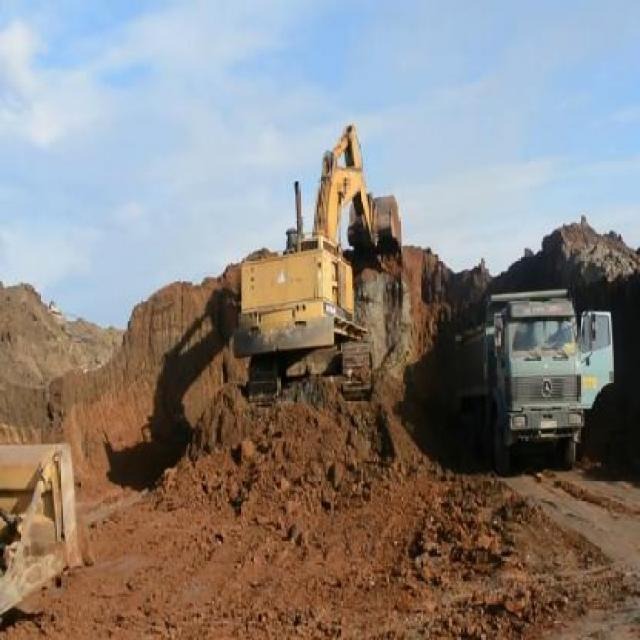Dump Truck: (452, 287, 606, 476)
Excavator: (232, 122, 403, 404)
